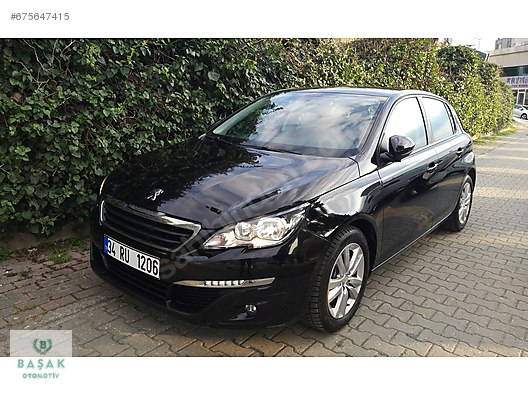peugeot: (81, 85, 485, 337)
